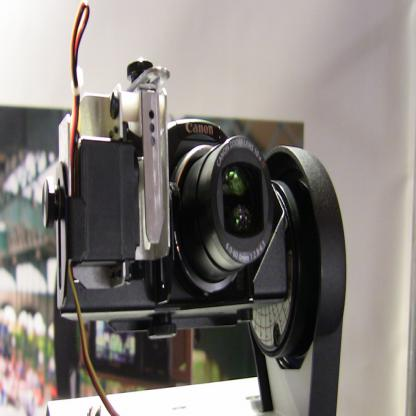Camera: (137, 115, 278, 305)
